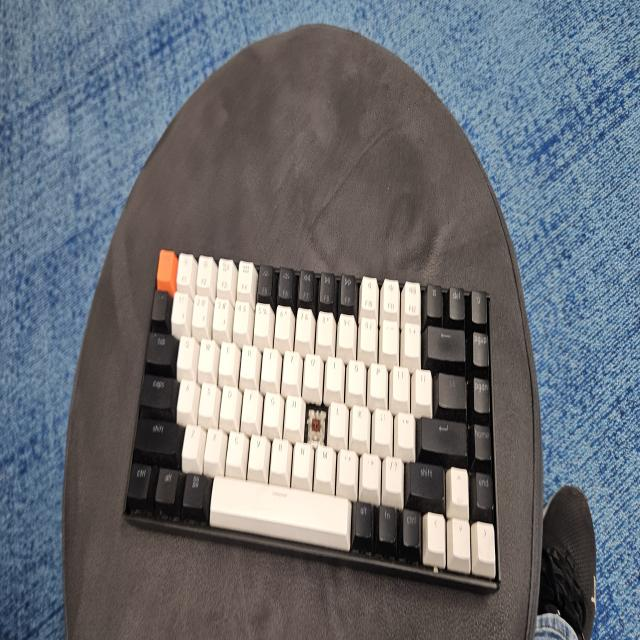C: (311, 408, 321, 434)
